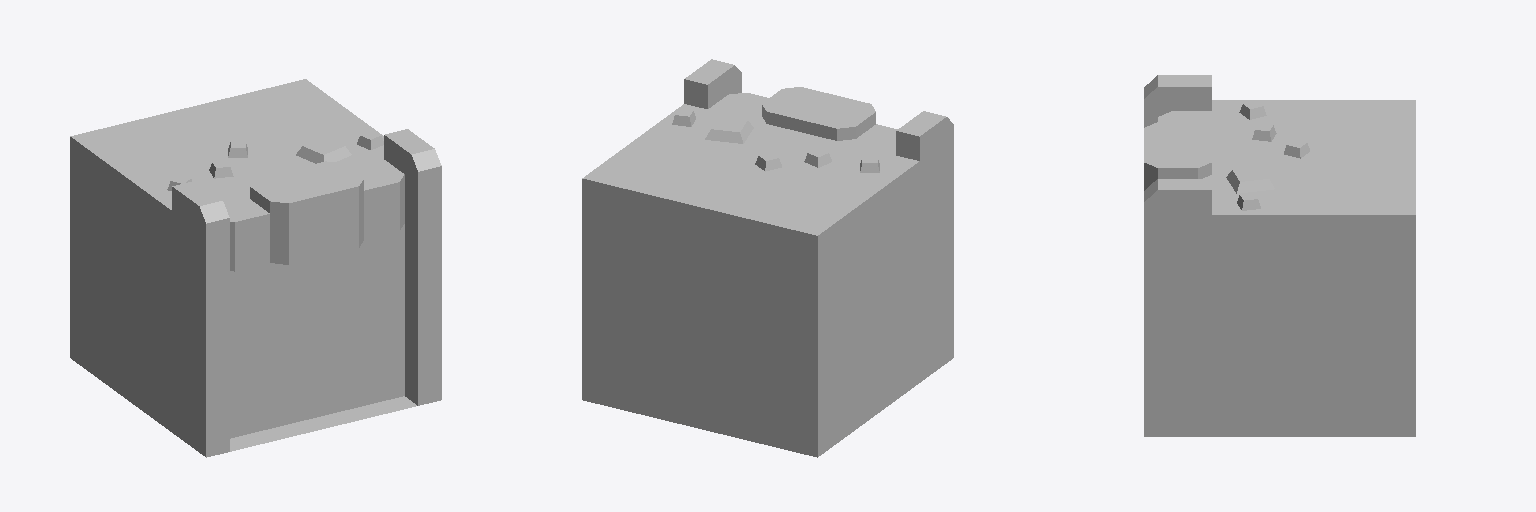
File: wall-half.obj
The picture shows the model from 3 angles: view 1: azimuth 30°, elevation 25°; view 2: azimuth 150°, elevation 25°; view 3: azimuth 270°, elevation 25°; orthographic projection.
Parts seen in each view (by area): view 1: wall-half; view 2: wall-half; view 3: wall-half.
Part boxes in pixels (x1,y1,x2,y2): wall-half: (70, 79, 441, 457); wall-half: (582, 59, 953, 457); wall-half: (1144, 75, 1415, 436).
Size of the model in its own units: 1 by 1 by 1.